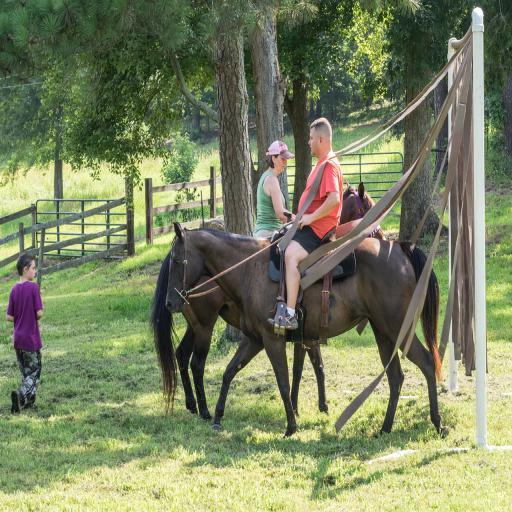Horse: (166, 220, 448, 438), (147, 179, 386, 419)
